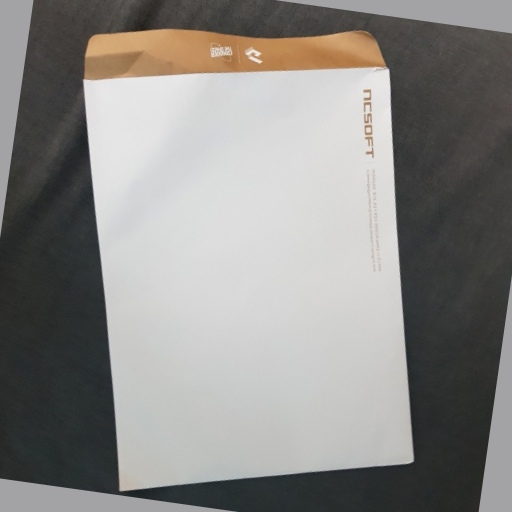Paper_2: (82, 20, 419, 494)
